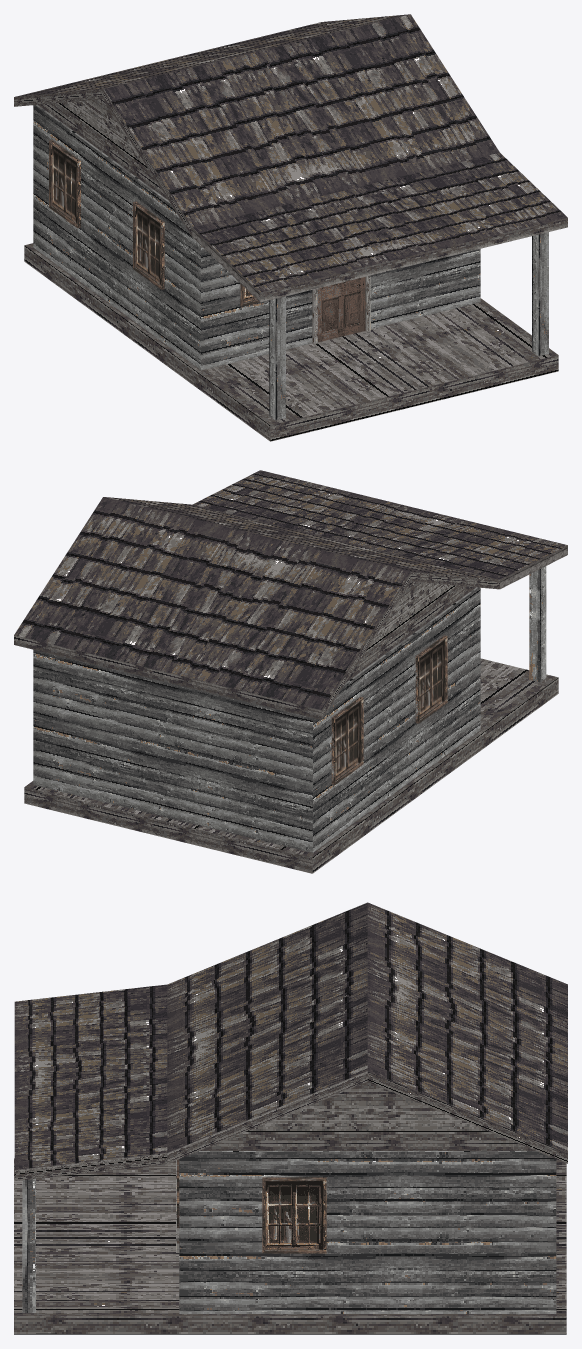
3 renders of one model, top to bottom at view 1: azimuth 30°, elevation 25°; view 2: azimuth 150°, elevation 25°; view 3: azimuth 270°, elevation 25°, orthographic. The views are drawn at different scales.
Visible parts, largest first — view 1: column2; view 2: column2; view 3: column2.
Boxes of the visible parts, x1,y1,x2,y2 form: column2: (14,14,567,441); column2: (14,470,567,873); column2: (14,902,567,1334).
Size of the model in its own units: 5.08 by 3.78 by 7.05.
3 materials, 3 textured.
